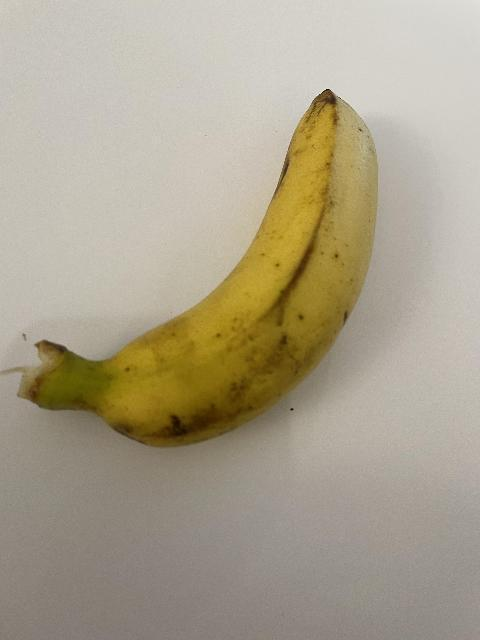banana: (15, 87, 379, 450)
